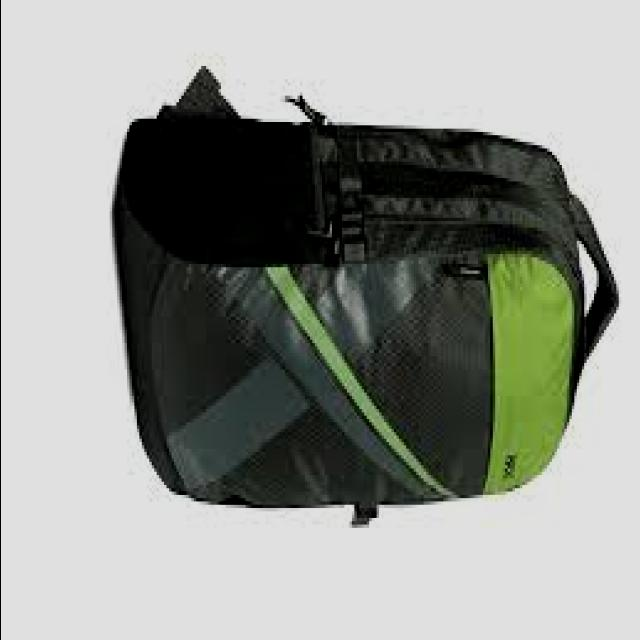backpack: (115, 68, 621, 526)
